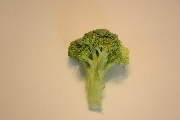broccoli: (68, 28, 131, 113)
